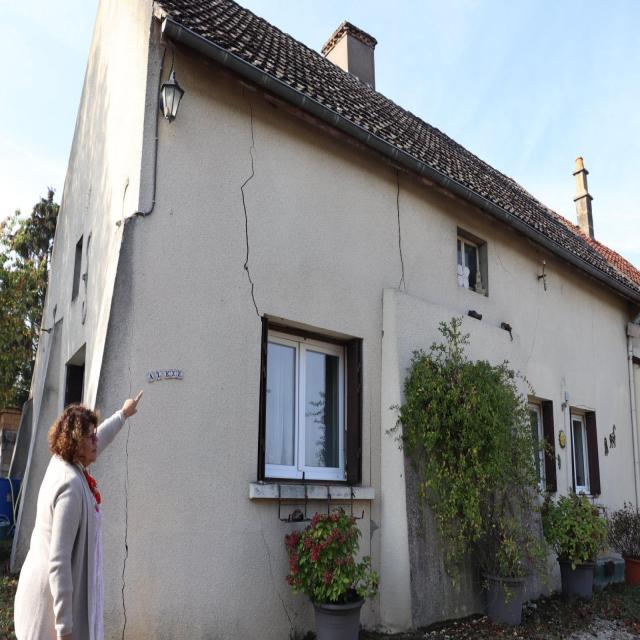crack: (238, 140, 264, 323), (121, 418, 133, 636), (395, 174, 408, 290), (277, 589, 296, 632), (260, 526, 273, 584)
